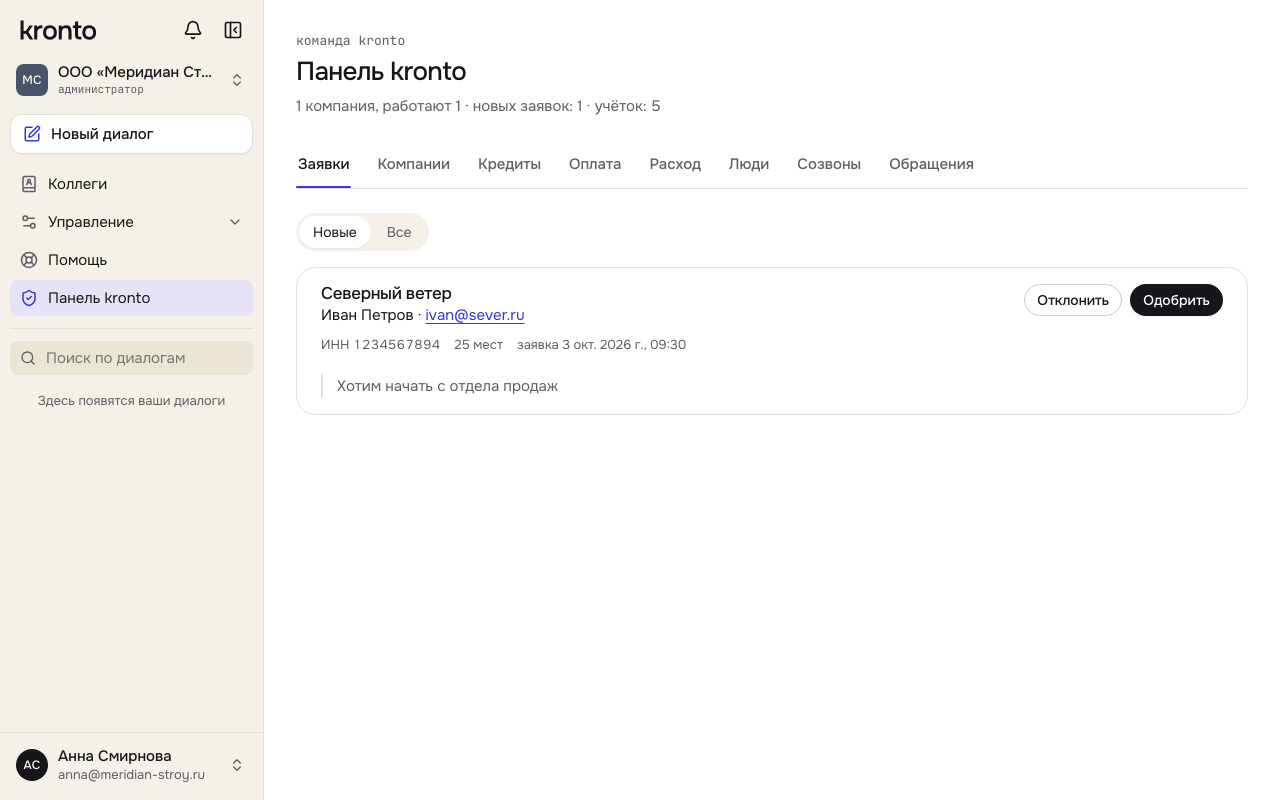
Test: панель: заявки на компании › «Все» — с решениями; заявку, рассмотренную в другой вкладке, не одобрить дважды
Expected: the heading "Северный ветер" is shown, [321,283,452,304]
Expected: the heading "Восток" is not shown
Click the button "Все" at (399, 232), box [373,216,426,248]
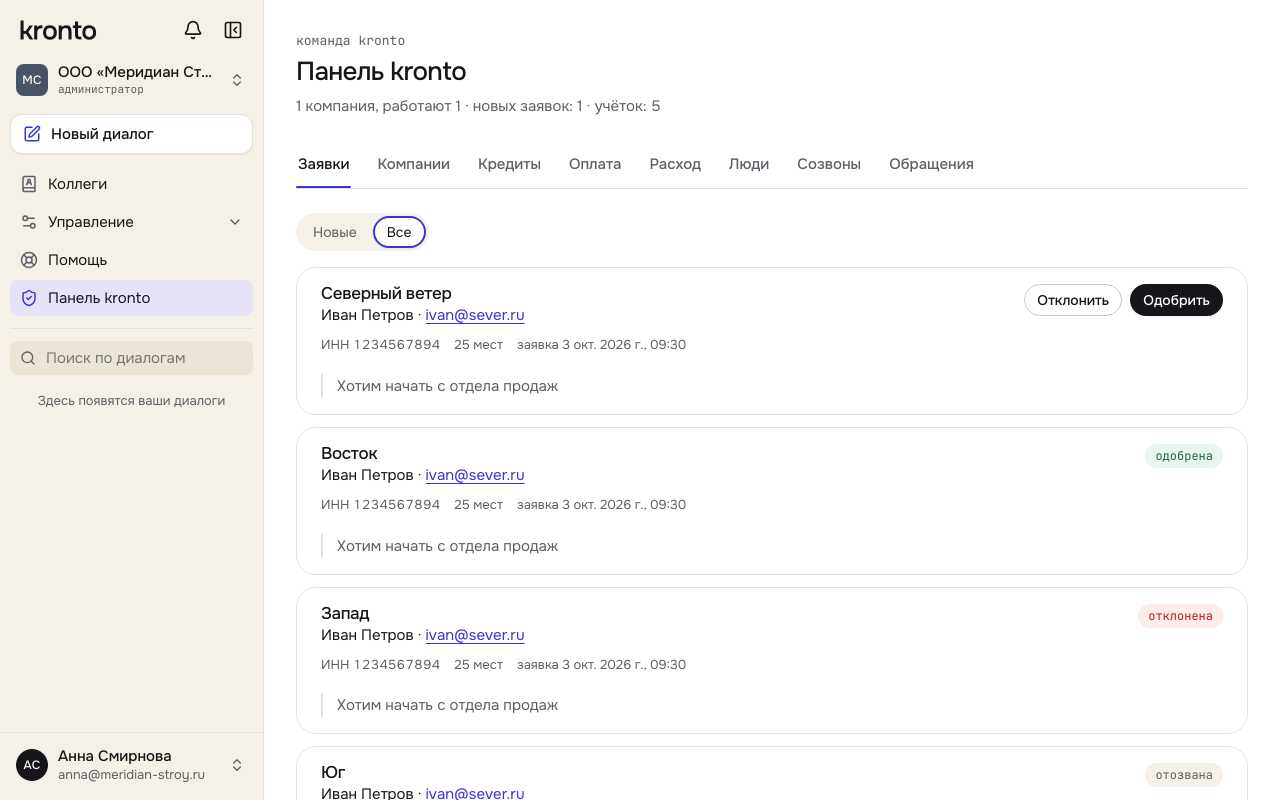
Expected: the text "одобрена" is shown, [1145,444,1223,468]
Expected: the text "отклонена" is shown, [1138,604,1223,628]
Expected: the text "отозвана" is shown, [1145,763,1223,787]
Click the button with aria-label "Одобрить: Северный ветер" at (1177, 300), box [1130,284,1223,316]
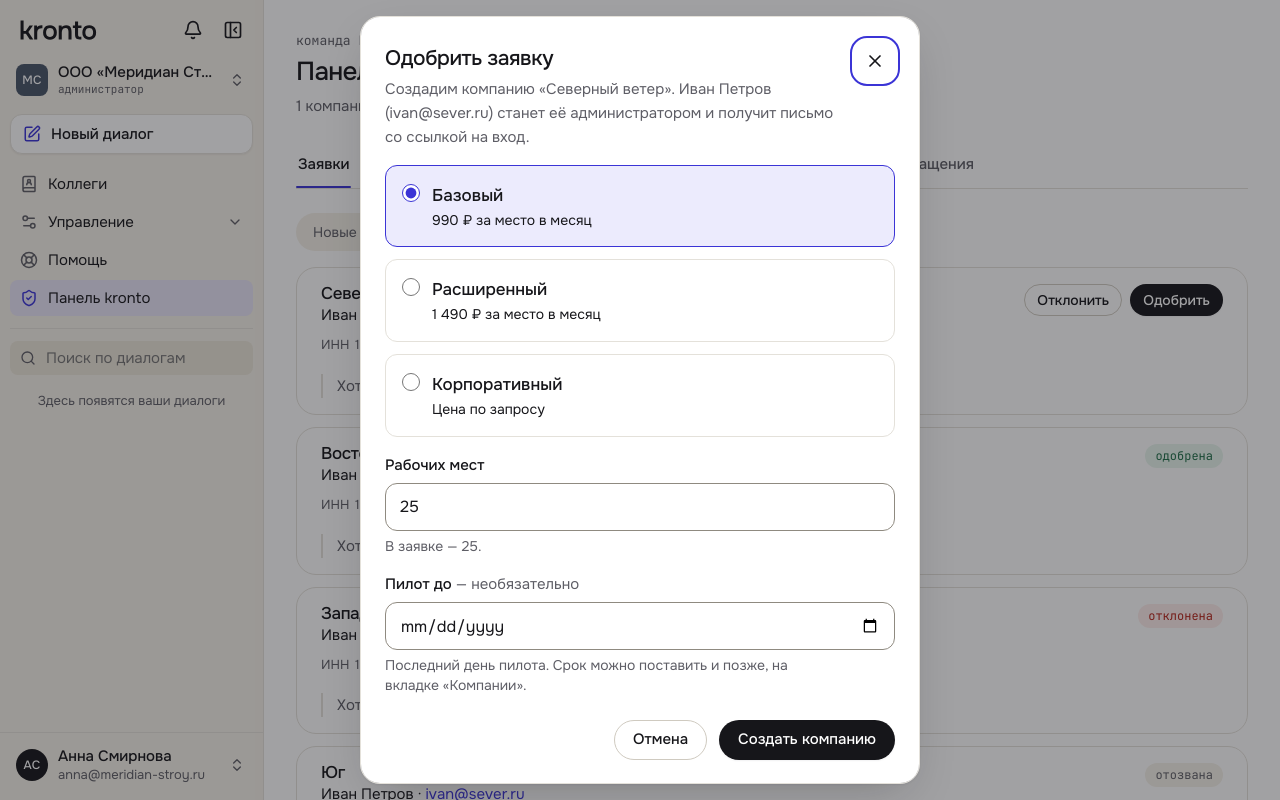
Click the button "Создать компанию" at (807, 740), box [719,720,895,760]
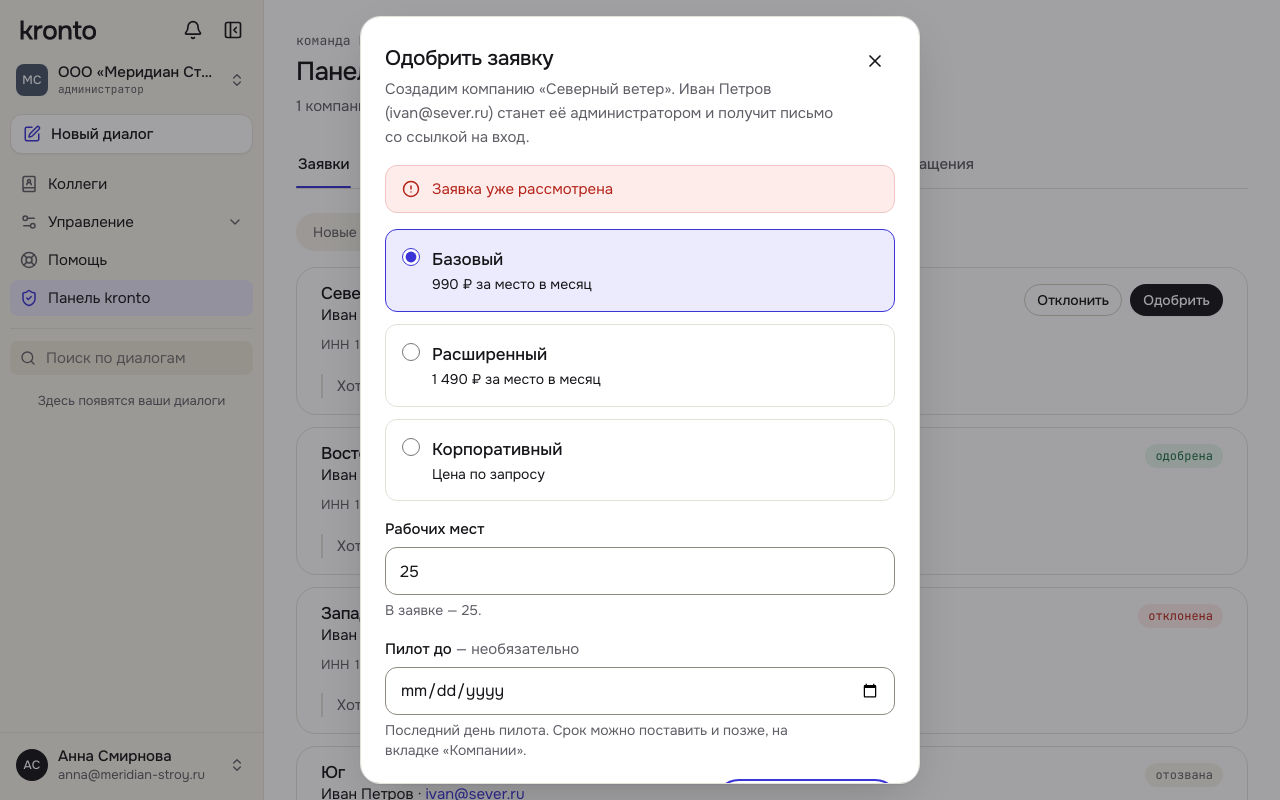
Expected: the message reads "Заявка уже рассмотрена", [432,178,613,198]
